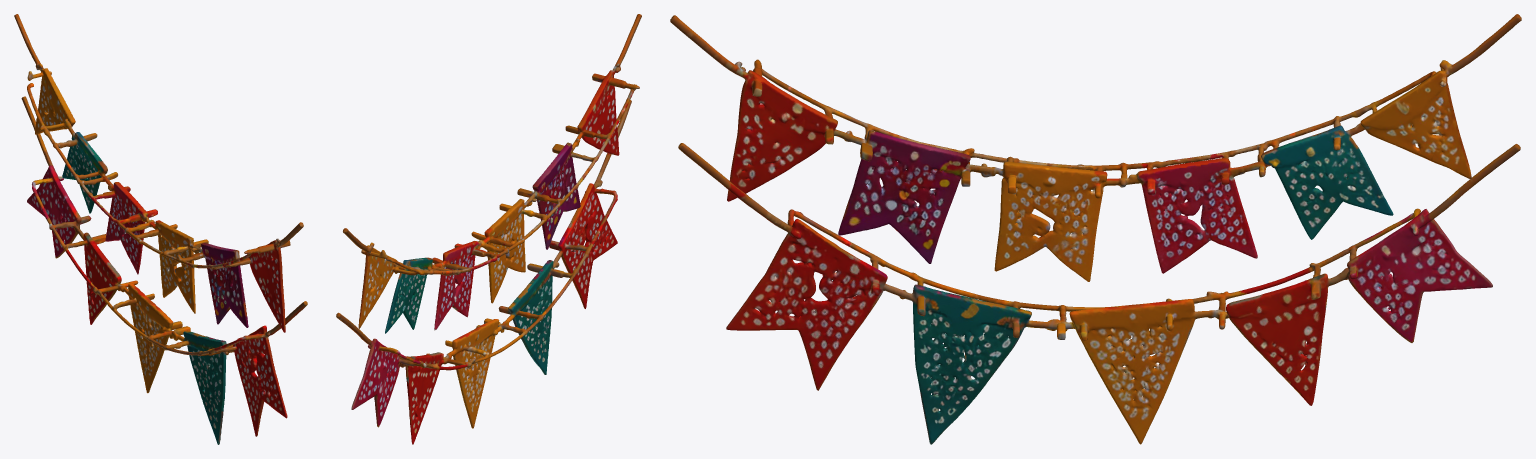
Rendered from papel-picado copy.glb.
3 renders of one model, left to right at view 1: azimuth 30°, elevation 25°; view 2: azimuth 150°, elevation 25°; view 3: azimuth 270°, elevation 25°, orthographic. The views are drawn at different scales.
Parts seen in each view (by area): view 1: tripo_node_15a98843-04dd-491a-911e-dd7667a4eaab; view 2: tripo_node_15a98843-04dd-491a-911e-dd7667a4eaab; view 3: tripo_node_15a98843-04dd-491a-911e-dd7667a4eaab.
Boxes of the visible parts, x1=… form: tripo_node_15a98843-04dd-491a-911e-dd7667a4eaab: x1=14, y1=14, x2=307, y2=444; tripo_node_15a98843-04dd-491a-911e-dd7667a4eaab: x1=336, y1=14, x2=641, y2=444; tripo_node_15a98843-04dd-491a-911e-dd7667a4eaab: x1=670, y1=14, x2=1521, y2=444.
Bounding box in the file's own units: 0.1061 × 0.5532 × 1.
1 material, 1 textured.
